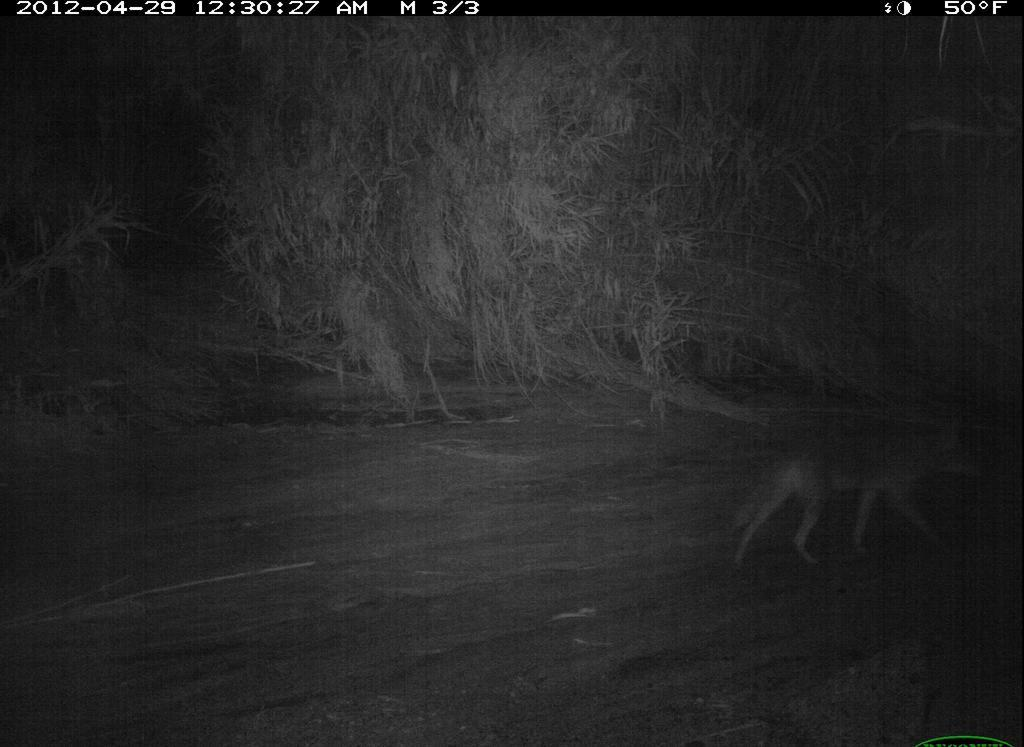coyote: (688, 427, 980, 591)
